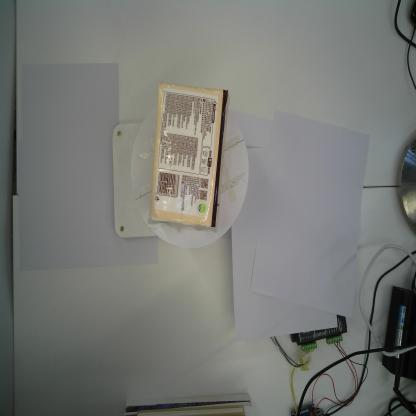Tissue: (148, 80, 231, 233)
